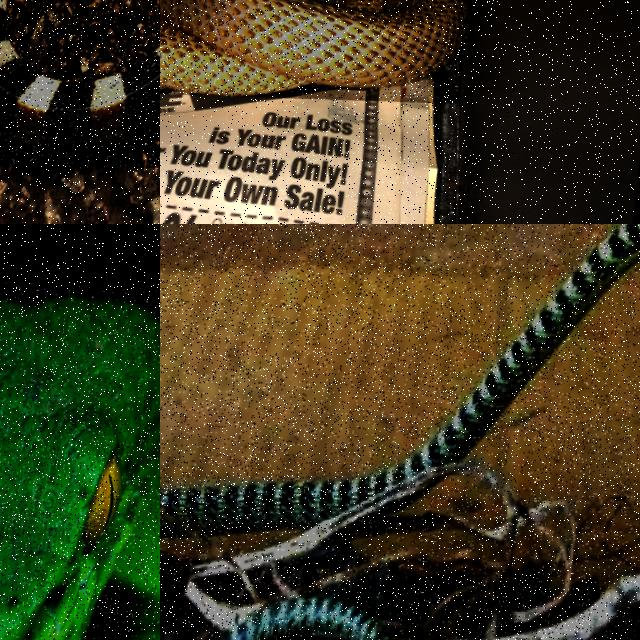Bungarus fasciatus: (0, 0, 159, 168)
Chrysopelea ornata: (160, 224, 639, 537)
Naja kaouthia: (160, 0, 468, 96)
Trimeresurus macrops: (0, 298, 159, 639)
snake: (160, 224, 639, 537), (0, 298, 159, 639), (160, 0, 468, 96), (0, 0, 159, 168)
